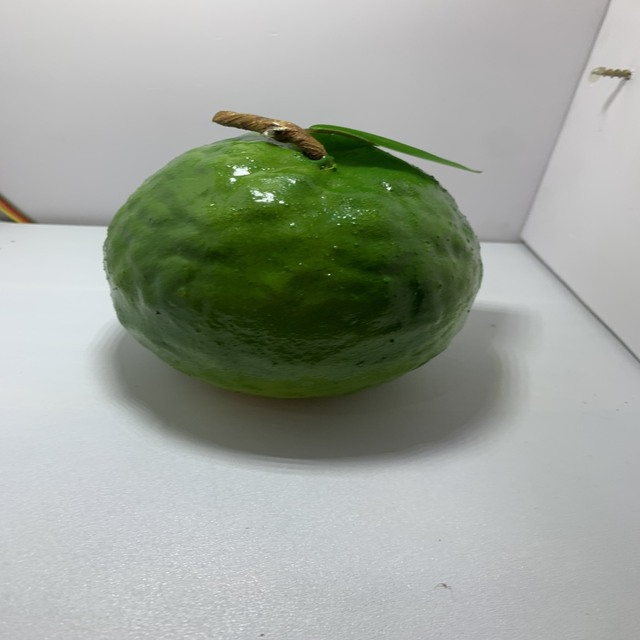Cam xanh: (86, 114, 497, 413)
